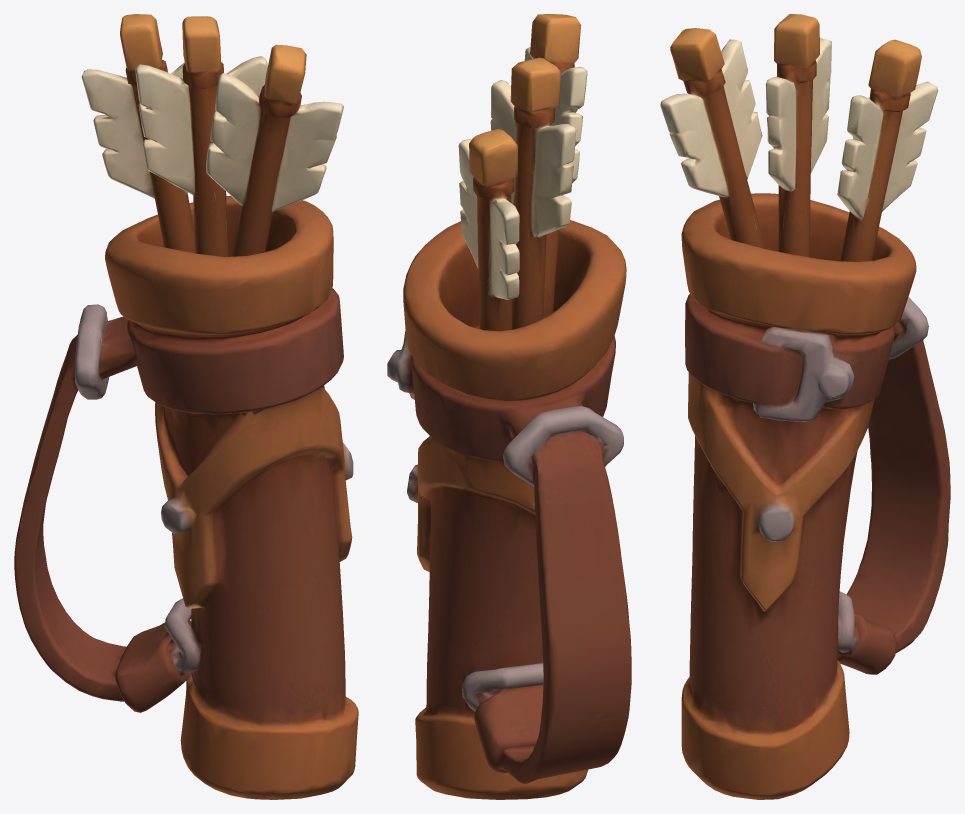
Rendered from Arm_quiver-U9a964c4.glb.
3 views of the same model, side by side, from view 1: azimuth 30°, elevation 25°; view 2: azimuth 150°, elevation 25°; view 3: azimuth 270°, elevation 25° (orthographic). The views are drawn at different scales.
Visible parts, largest first — view 1: Arm_quiver; view 2: Arm_quiver; view 3: Arm_quiver.
Part boxes in pixels (x1,y1,x2,y2): Arm_quiver: (14,14,358,799); Arm_quiver: (387,14,631,799); Arm_quiver: (660,14,950,799).
Bounding box in the file's own units: 0.2848 × 0.75 × 0.2703.
Materials: 1 (1 with a texture image).
